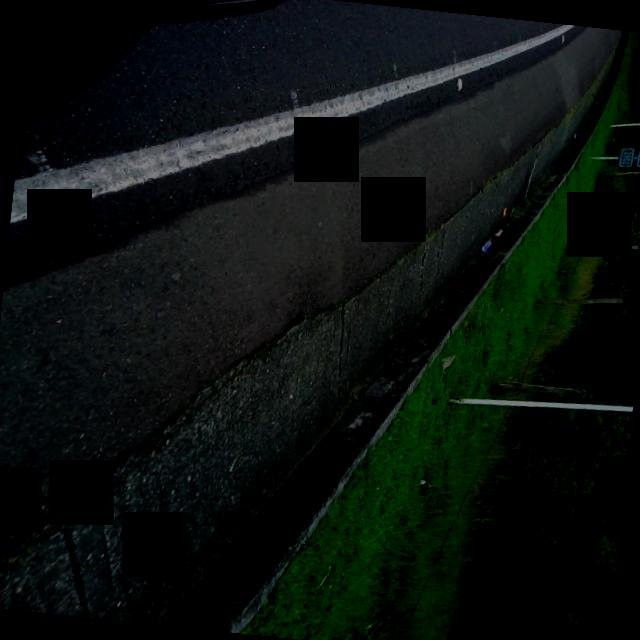DITCH: (0, 0, 628, 640), (0, 32, 634, 640)
